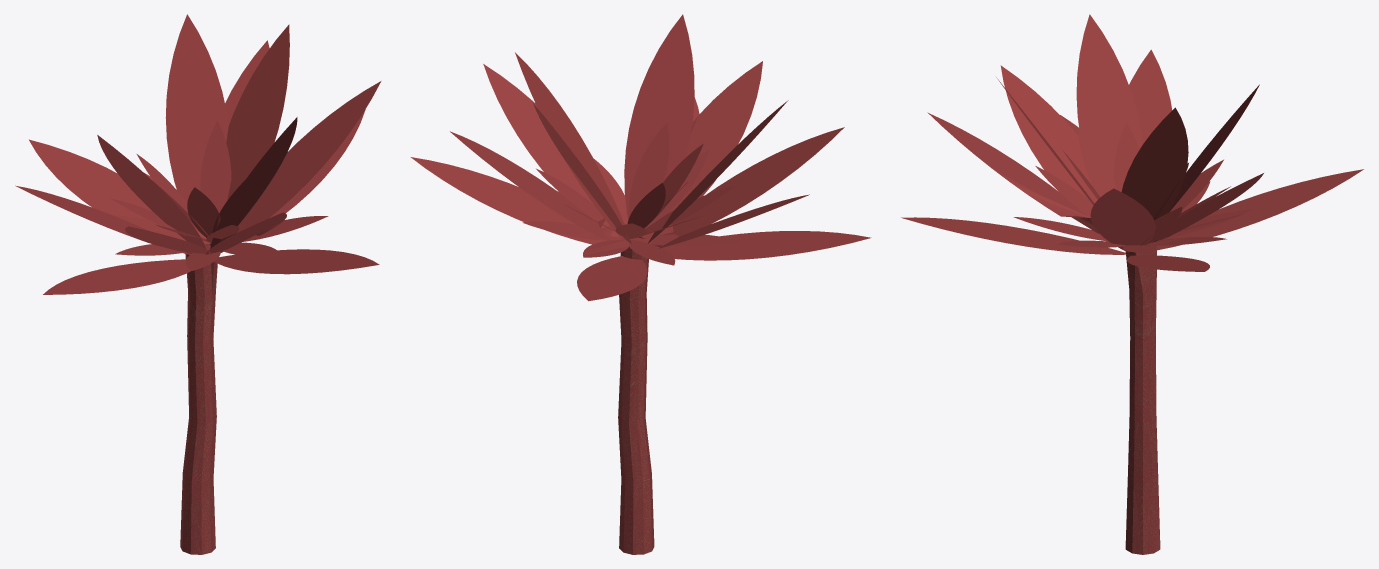
File: Plant_Desert_01.fbx
The picture shows the model from 3 angles, left to right: view 1: azimuth 30°, elevation 25°; view 2: azimuth 150°, elevation 25°; view 3: azimuth 270°, elevation 25°; orthographic projection. The views are drawn at different scales.
Visible parts, largest first — view 1: Plant_Desert_01; view 2: Plant_Desert_01; view 3: Plant_Desert_01.
Part boxes in pixels (x1,y1,x2,y2): Plant_Desert_01: [15, 14, 381, 554]; Plant_Desert_01: [410, 14, 871, 554]; Plant_Desert_01: [901, 14, 1363, 554].
Bounding box in the file's own units: 40.03 × 47.09 × 40.19.
